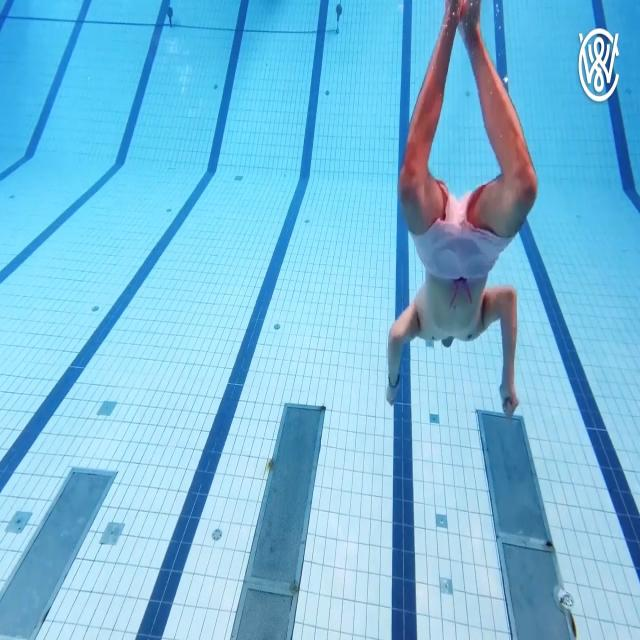Swimming: (387, 1, 539, 419)
